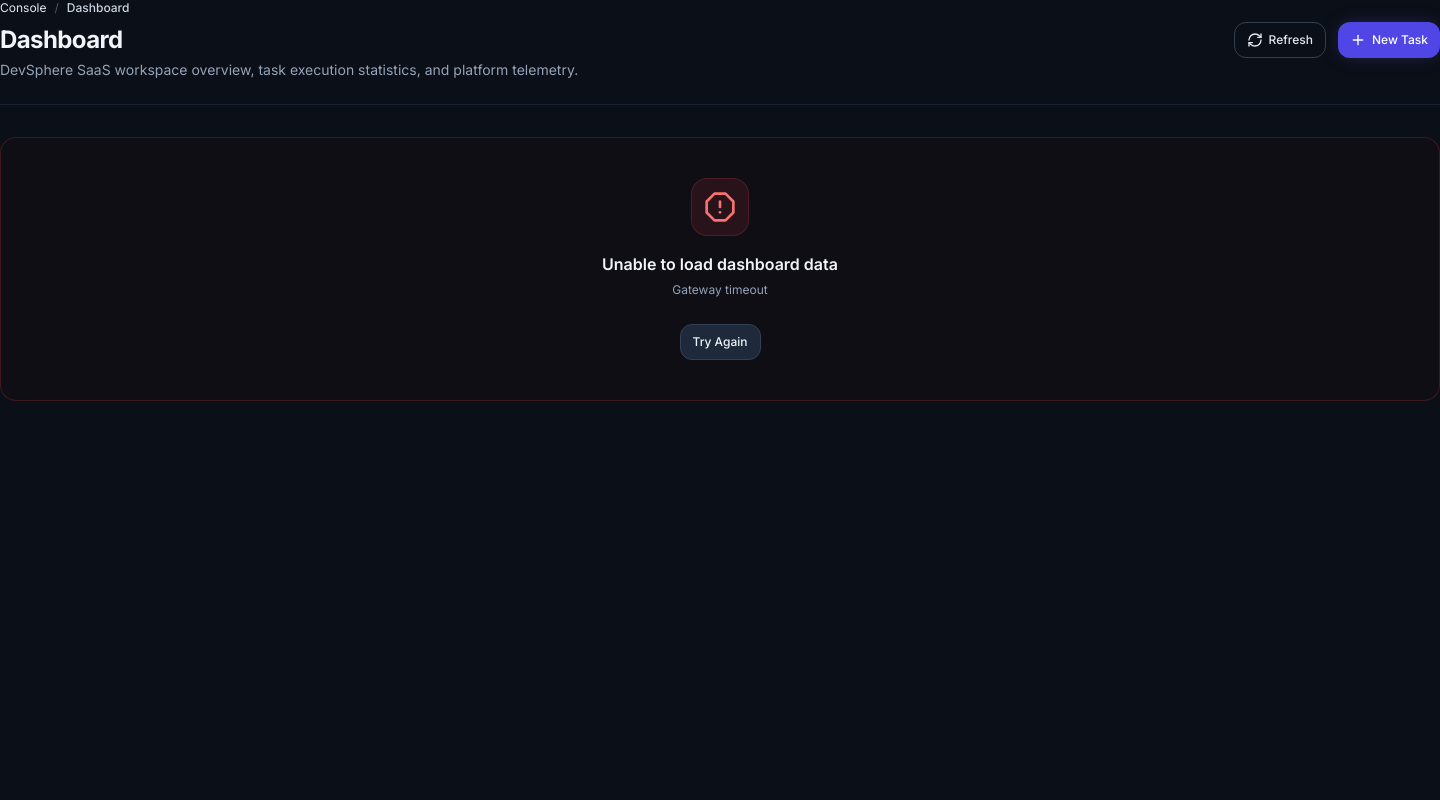
Test: DashboardPage › renders error state when API fails and retries upon clicking Try Again
Expected: the heading "Unable to load dashboard data" is shown, [602,252,838,276]
Expected: the text "Gateway timeout" is shown, [672,280,768,300]
Click the button "Try Again".
click(720, 342)  # box [680,324,760,360]
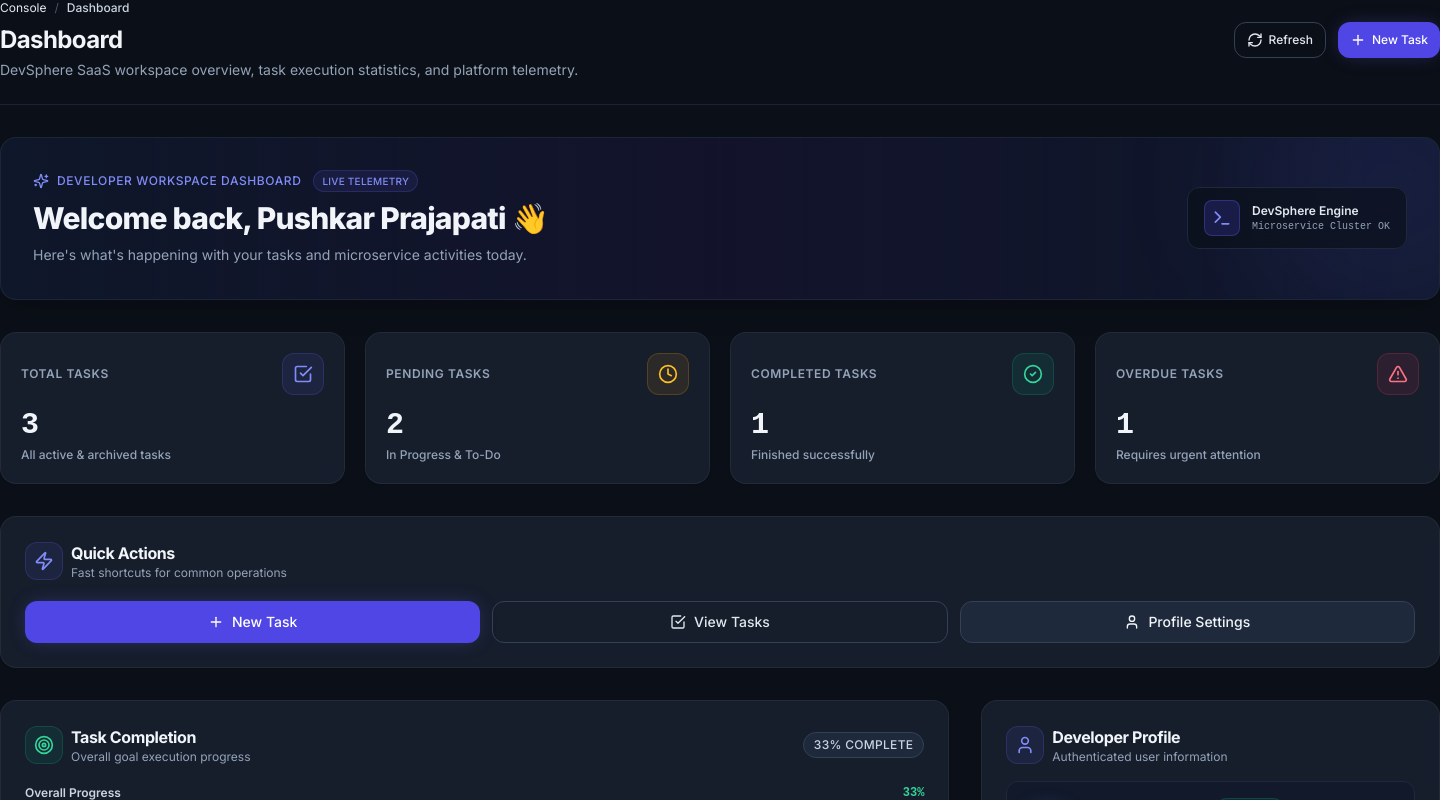
Expected: the heading "Welcome back, Pushkar Prajapati 👋" is shown, [33,200,548,236]
